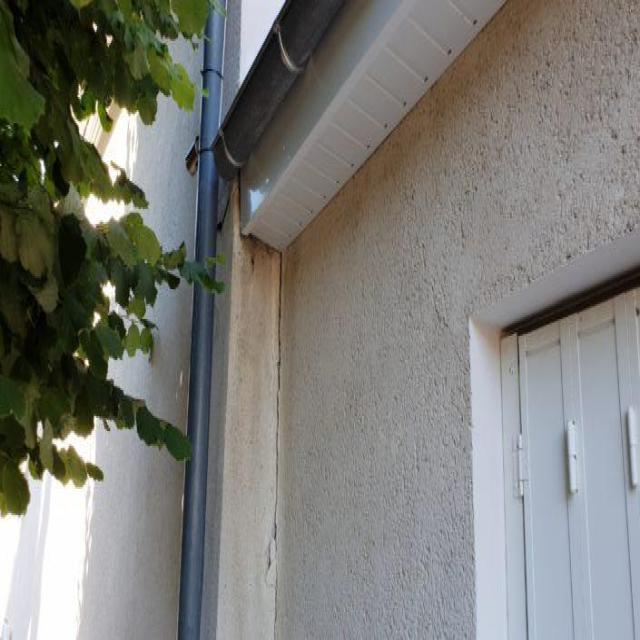crack: (274, 250, 283, 636)
